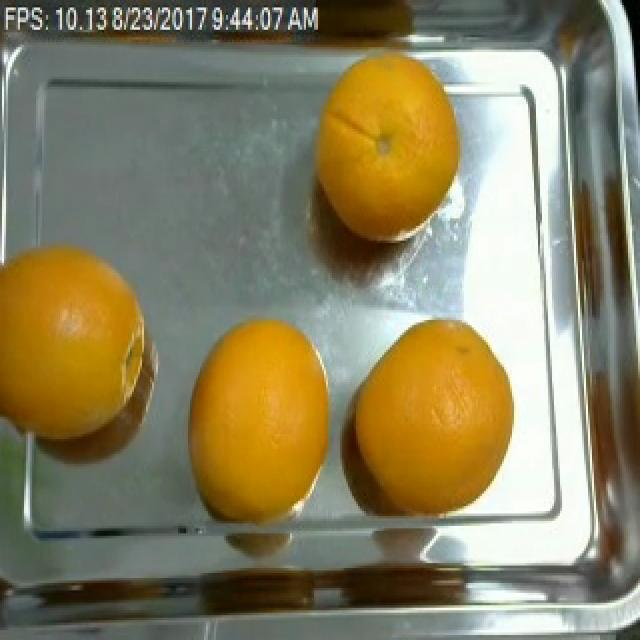Fruit: (298, 39, 478, 256), (174, 302, 334, 508)
